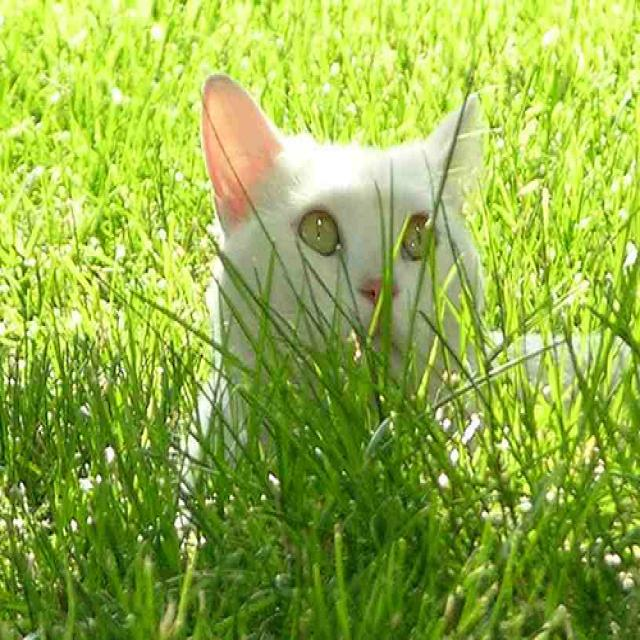left eye: (400, 210, 436, 263)
